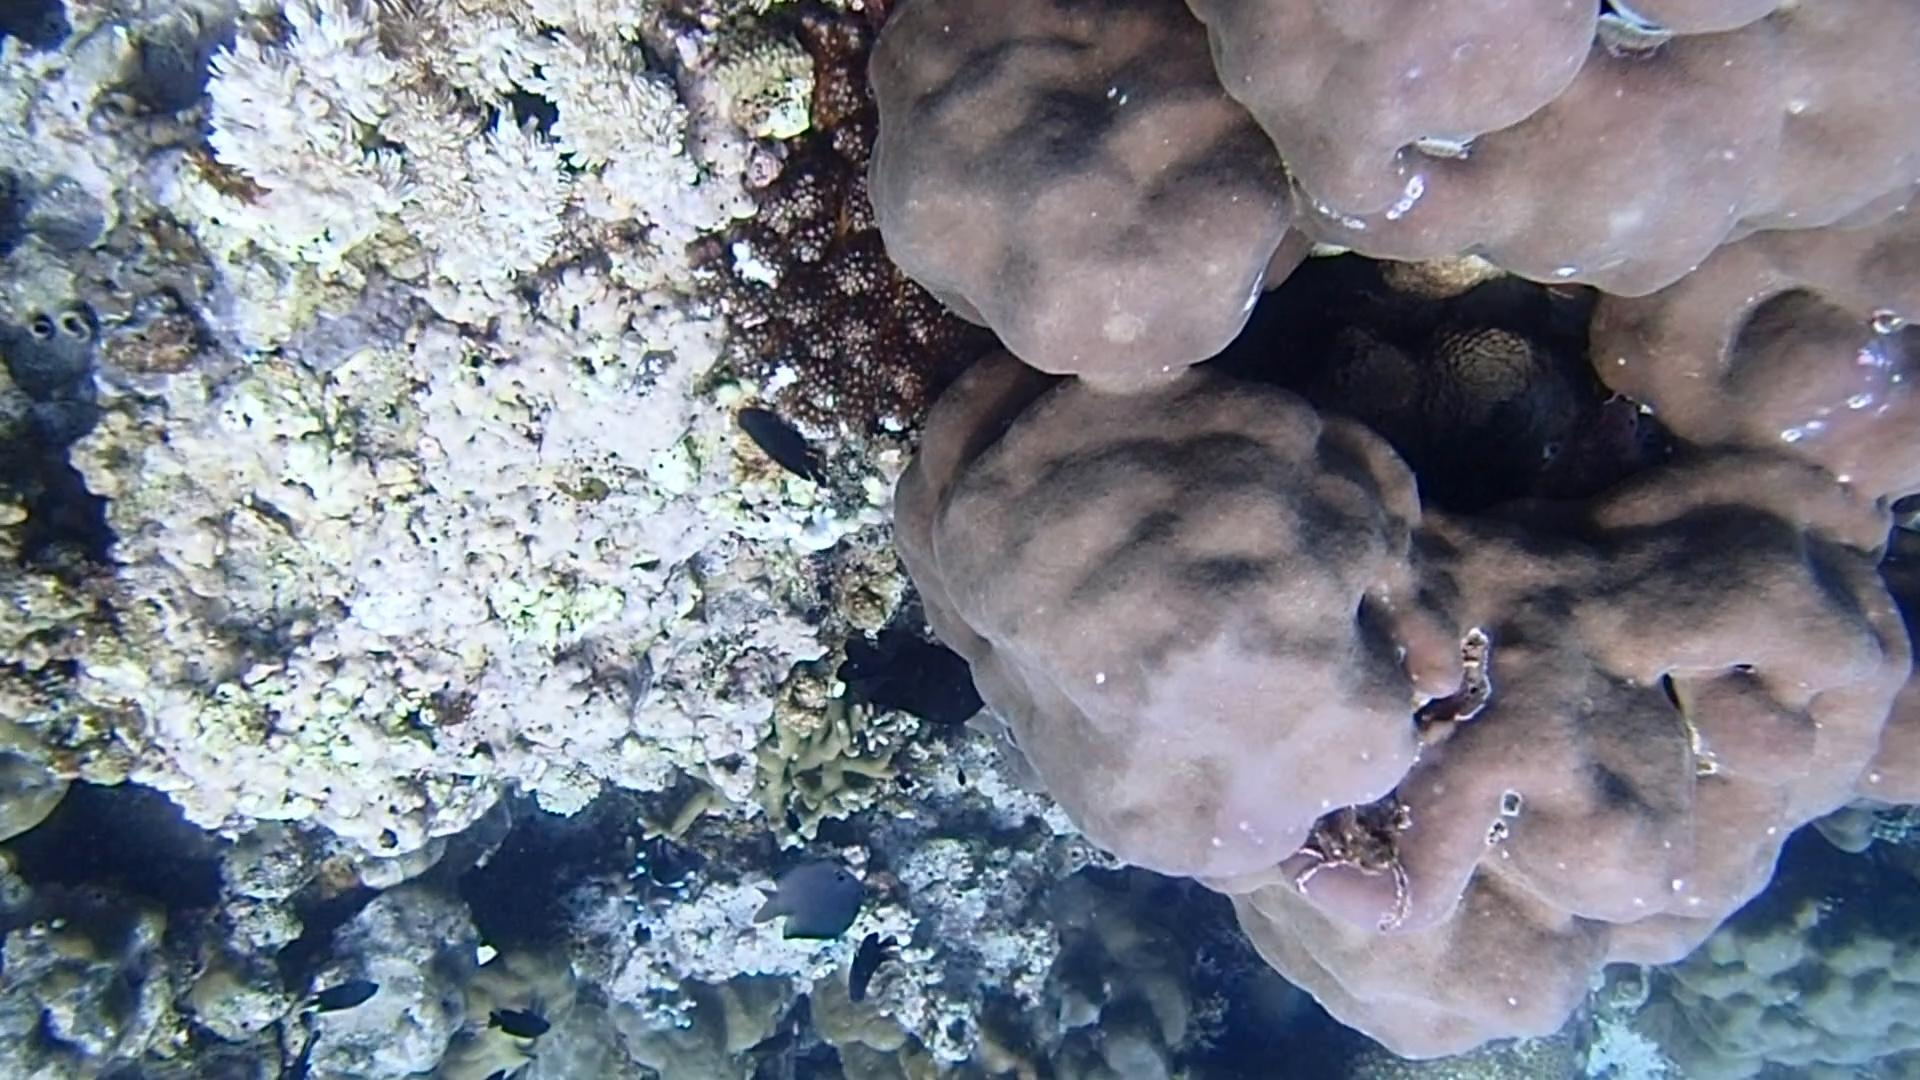Dark Fish: (816, 622, 1021, 733), (724, 390, 835, 493), (841, 923, 899, 1017), (293, 969, 372, 1025), (483, 1000, 553, 1044)
Light Fish - Dark Fin: (748, 851, 878, 949)
